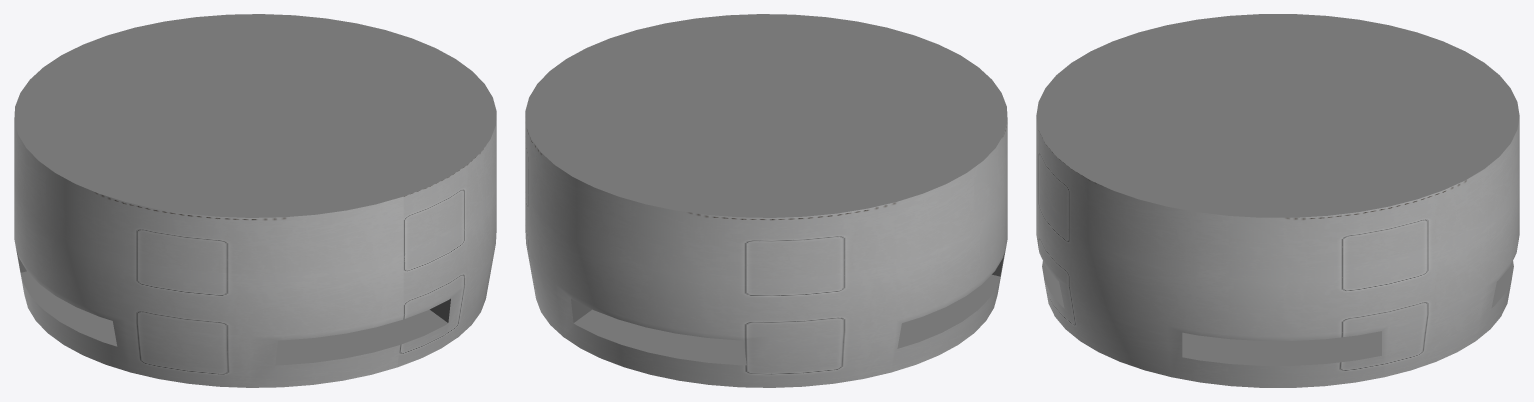
Rendered from DEC_Merlin_ClusterBASEreplacement.fbx.
The picture shows the model from 3 angles, left to right: view 1: azimuth 30°, elevation 25°; view 2: azimuth 150°, elevation 25°; view 3: azimuth 270°, elevation 25°; orthographic projection.
Visible parts, largest first — view 1: Shell.001; view 2: Shell.001; view 3: Shell.001.
Part boxes in pixels (x1=…): Shell.001: x1=14, y1=14, x2=496, y2=387; Shell.001: x1=525, y1=14, x2=1007, y2=387; Shell.001: x1=1036, y1=14, x2=1519, y2=387.
Bounding box in the file's own units: 393 × 157 × 394.
